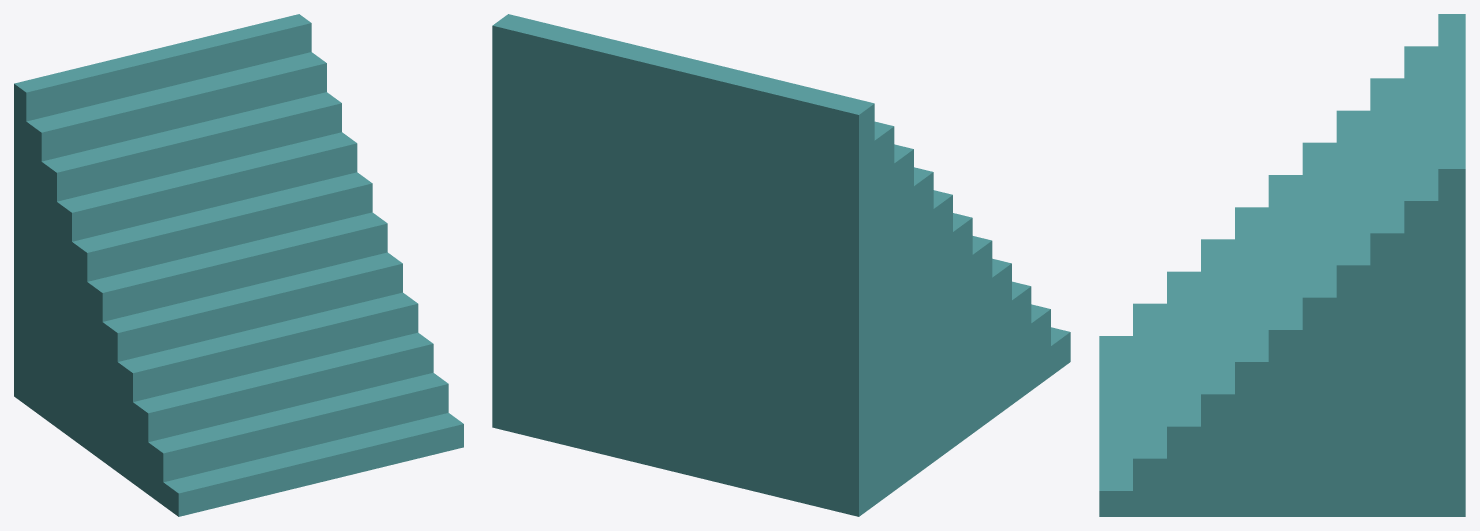
The model's file is stairway_01.fbx.
3 renders of one model, left to right at view 1: azimuth 30°, elevation 25°; view 2: azimuth 150°, elevation 25°; view 3: azimuth 270°, elevation 25°, orthographic. The views are drawn at different scales.
Parts seen in each view (by area): view 1: stairway_01; view 2: stairway_01; view 3: stairway_01.
Boxes of the visible parts, left/top/right/bottom form: stairway_01: left=14, top=14, right=463, bottom=516; stairway_01: left=492, top=14, right=1070, bottom=516; stairway_01: left=1099, top=14, right=1465, bottom=516.
Size of the model in its own units: 4 by 4.19 by 4.
